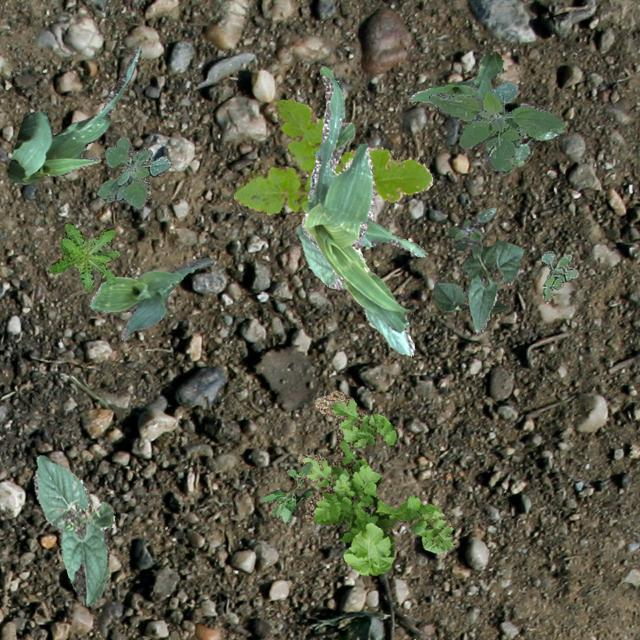crop: (301, 61, 408, 332), (6, 45, 140, 184), (314, 104, 426, 256), (296, 222, 414, 356), (34, 454, 114, 606), (408, 50, 518, 146), (89, 256, 212, 340), (458, 238, 522, 332), (432, 282, 508, 312)
weed: (296, 390, 456, 576), (233, 98, 432, 214), (428, 82, 564, 174), (96, 136, 170, 208), (48, 220, 118, 290), (258, 461, 312, 522), (446, 205, 496, 252), (511, 128, 562, 166), (540, 250, 576, 302)
